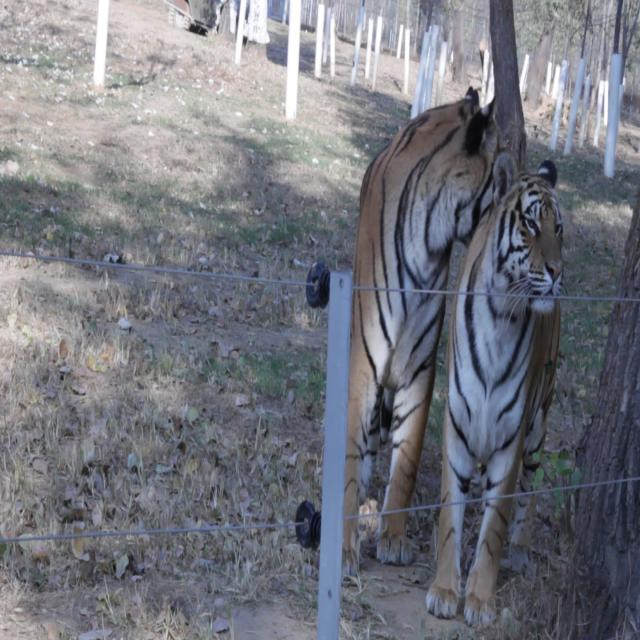Tiger: (336, 75, 510, 586), (424, 146, 566, 640)
